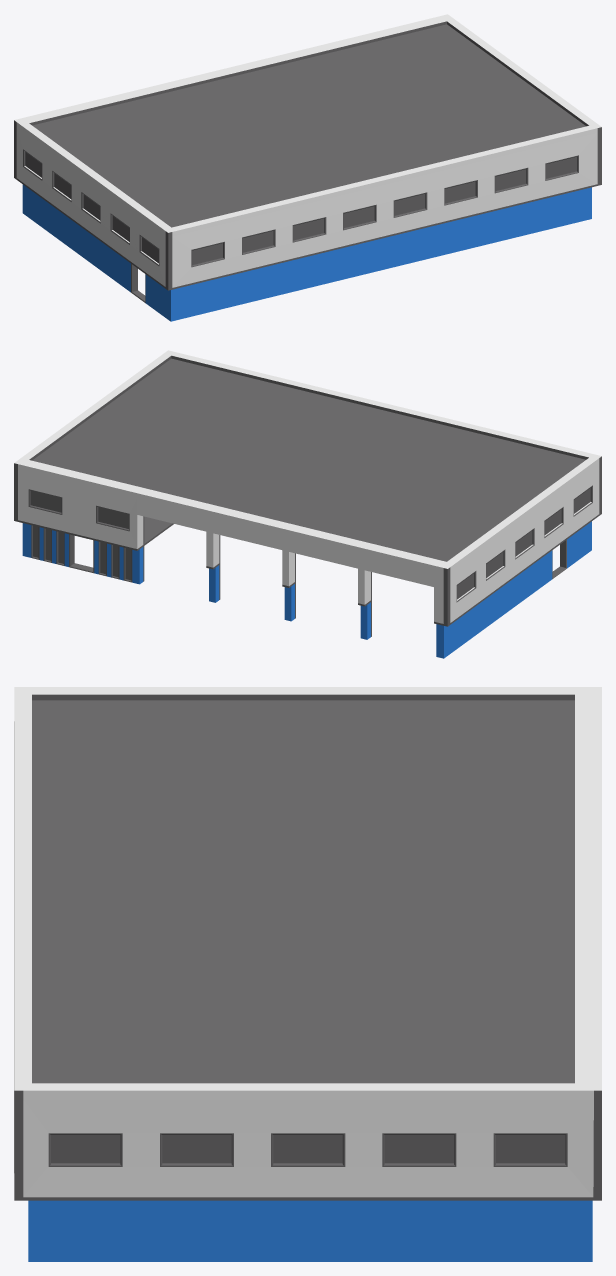
Rendered from Build.fbx.
3 views of the same model, one above another, from view 1: azimuth 30°, elevation 25°; view 2: azimuth 150°, elevation 25°; view 3: azimuth 270°, elevation 25° (orthographic). The views are drawn at different scales.
Visible parts, largest first — view 1: Build, Glass; view 2: Build, Glass; view 3: Build, Glass.
Boxes of the visible parts, x1=… form: Build: x1=14, y1=14, x2=601, y2=321; Glass: x1=25, y1=152, x2=576, y2=264; Build: x1=14, y1=350, x2=601, y2=658; Glass: x1=30, y1=488, x2=590, y2=599; Build: x1=14, y1=687, x2=601, y2=1261; Glass: x1=51, y1=1135, x2=565, y2=1163.
Bounding box in the file's own units: 5150 × 1055 × 3172.
